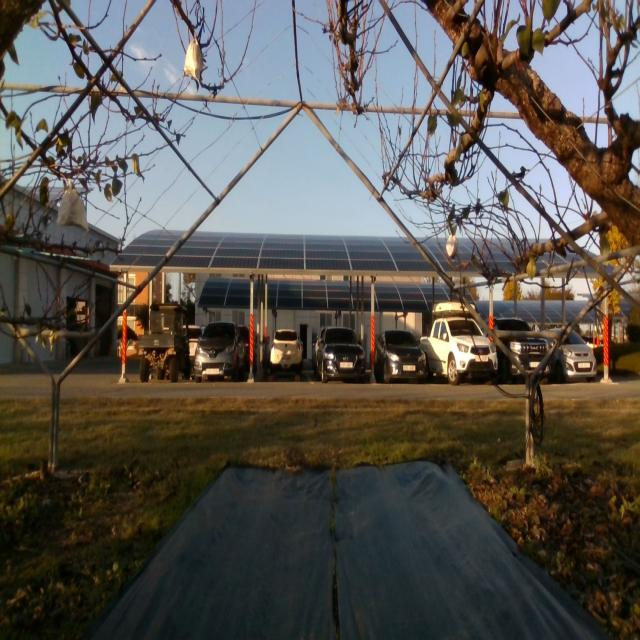pearbags: (56, 188, 88, 232), (183, 39, 203, 79), (446, 234, 457, 260)
